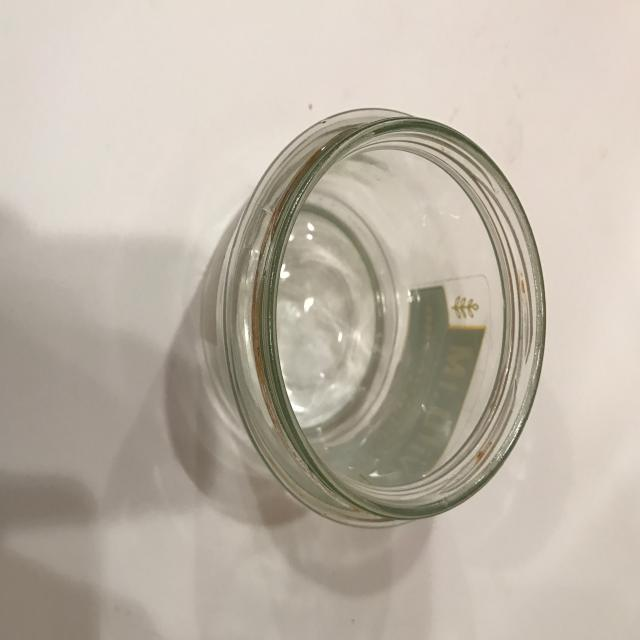glass: (210, 106, 548, 528)
